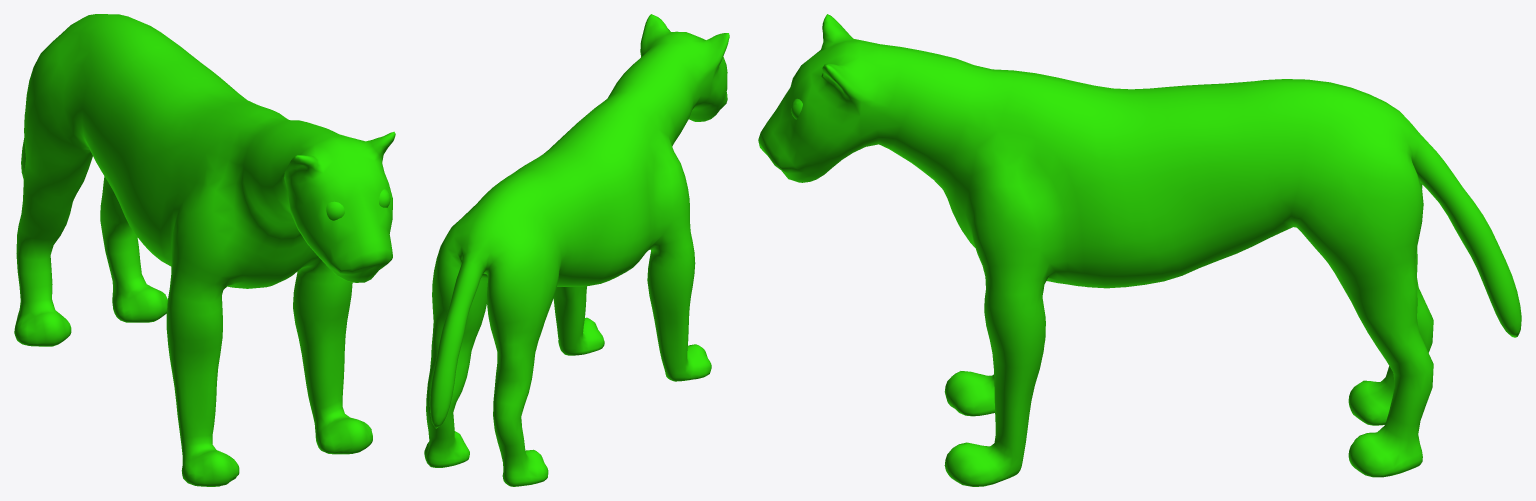
The model's file is LionLowPoly (1).fbx.
The picture shows the model from 3 angles, left to right: view 1: azimuth 30°, elevation 25°; view 2: azimuth 150°, elevation 25°; view 3: azimuth 270°, elevation 25°; orthographic projection. The views are drawn at different scales.
Parts seen in each view (by area): view 1: Body_LowPoly, Eye_LowPoly; view 2: Body_LowPoly; view 3: Body_LowPoly.
Part boxes in pixels (left/top/right/bottom): Body_LowPoly: left=14, top=14, right=395, bottom=486; Eye_LowPoly: left=326, top=189, right=390, bottom=220; Body_LowPoly: left=424, top=14, right=729, bottom=486; Body_LowPoly: left=758, top=14, right=1521, bottom=486.
Bounding box in the file's own units: 145 × 277 × 478.
